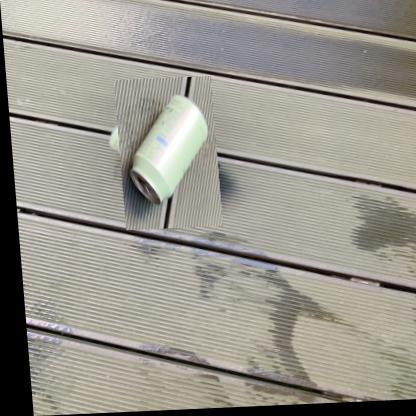trash: (130, 95, 207, 203)
